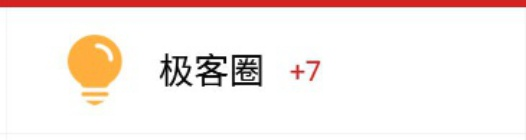CheckedTextView: (1, 1, 525, 139)
